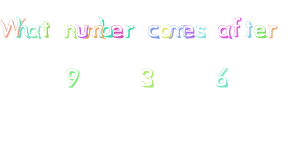3: (139, 66, 156, 89)
6: (214, 65, 231, 88)
9: (63, 65, 82, 89)
W: (1, 15, 20, 40)
a: (215, 21, 234, 41), (28, 23, 43, 40)
b: (98, 14, 113, 40)
c: (145, 21, 160, 40)
e: (111, 21, 124, 40), (254, 23, 267, 39), (183, 23, 195, 40)
f: (231, 16, 244, 38)
h: (15, 15, 29, 41)
m: (84, 20, 104, 40), (168, 23, 186, 40)
n: (61, 19, 78, 41)
o: (159, 21, 173, 40)
r: (123, 21, 137, 39), (267, 21, 280, 39)
s: (195, 23, 210, 40)
t: (41, 16, 54, 40), (243, 20, 254, 39)
u: (74, 19, 90, 40)
